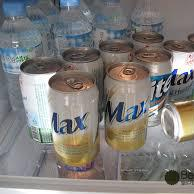beer: (23, 32, 194, 171)
